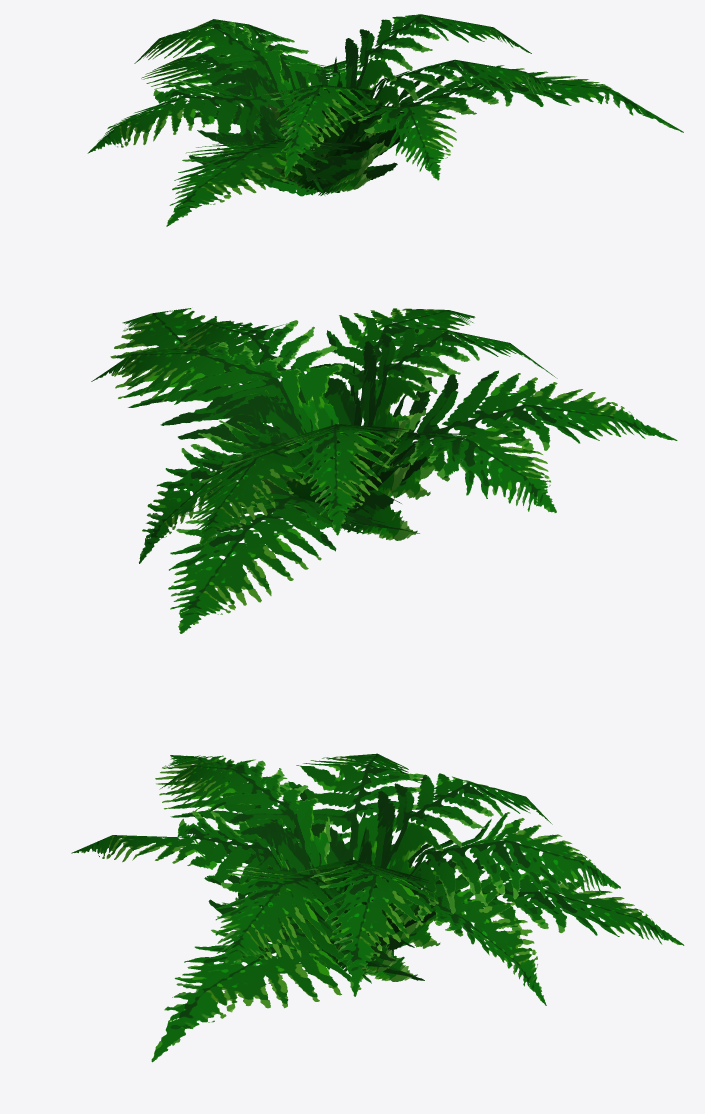
The picture shows the model from 3 angles, top to bottom: view 1: azimuth 30°, elevation 25°; view 2: azimuth 150°, elevation 25°; view 3: azimuth 270°, elevation 25°; orthographic projection. The views are drawn at different scales.
Parts seen in each view (by area): view 1: Object_3; view 2: Object_3; view 3: Object_3.
Boxes of the visible parts, box(x1,y1,x2,y2) form: Object_3: box(87, 14, 683, 226); Object_3: box(91, 308, 677, 633); Object_3: box(71, 753, 684, 1062).
Size of the model in its own units: 55.25 by 15.58 by 48.67.
Materials: 1 (1 with a texture image).
